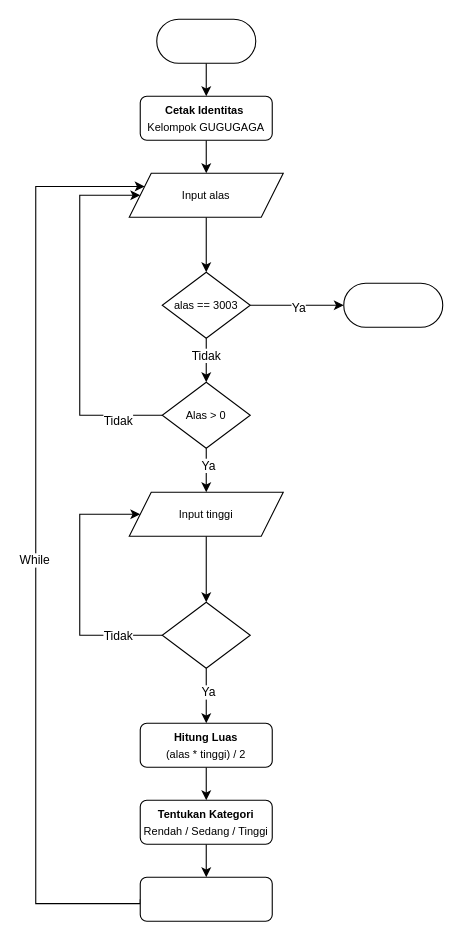
This 462x941 diagram has some shape labels left out. The shapes that lost their labels are listed below. From the top down, each one's centre as x and y in pixels, then its label:
At [206,40]: "Mulai".
At [393,304]: "Selesai".
At [205,634]: "tinggi > 0".
At [205,898]: "Tentukan Hasil Luas & Kategori".
